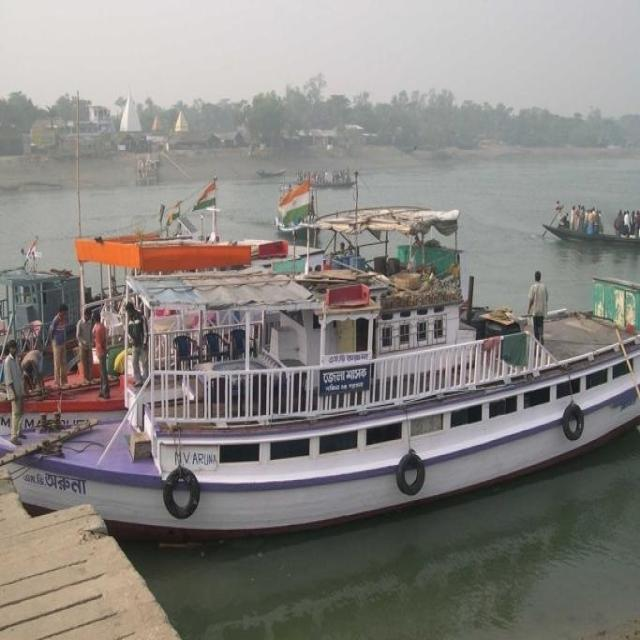boat: (17, 309, 640, 509), (533, 215, 640, 247), (287, 170, 363, 189), (260, 170, 295, 178)
